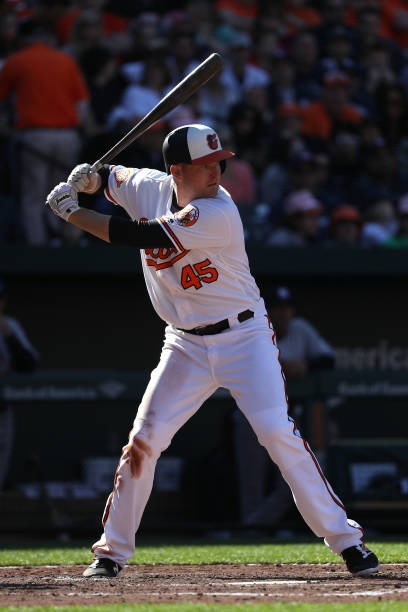bita: (71, 51, 220, 192)
